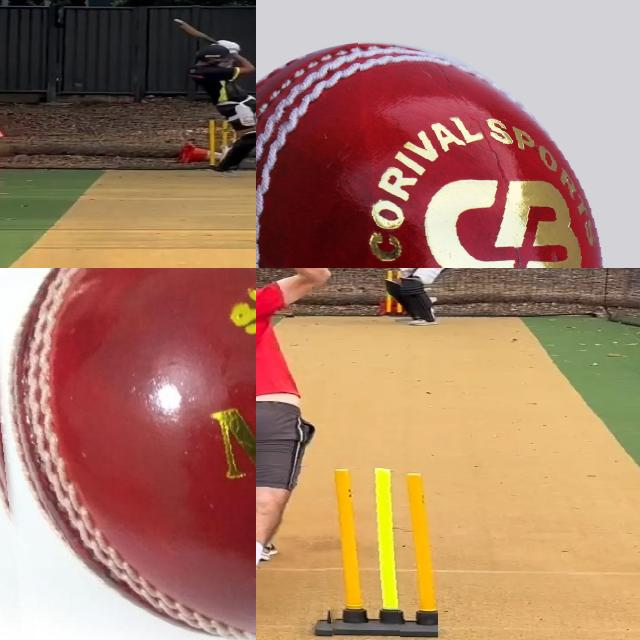Cricket ball: (0, 268, 256, 640), (256, 36, 606, 268)
Stumps: (315, 468, 438, 638)
